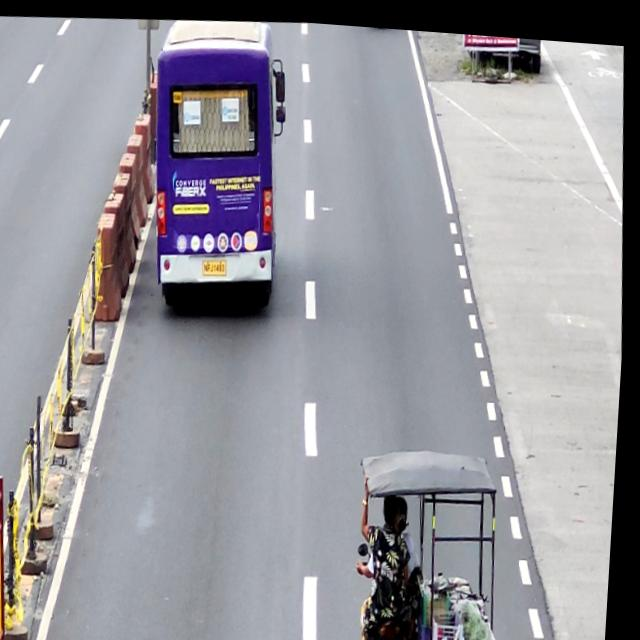Bus: (139, 10, 303, 319)
License-Plate: (204, 256, 231, 275)
Tricycle: (354, 437, 520, 640)
